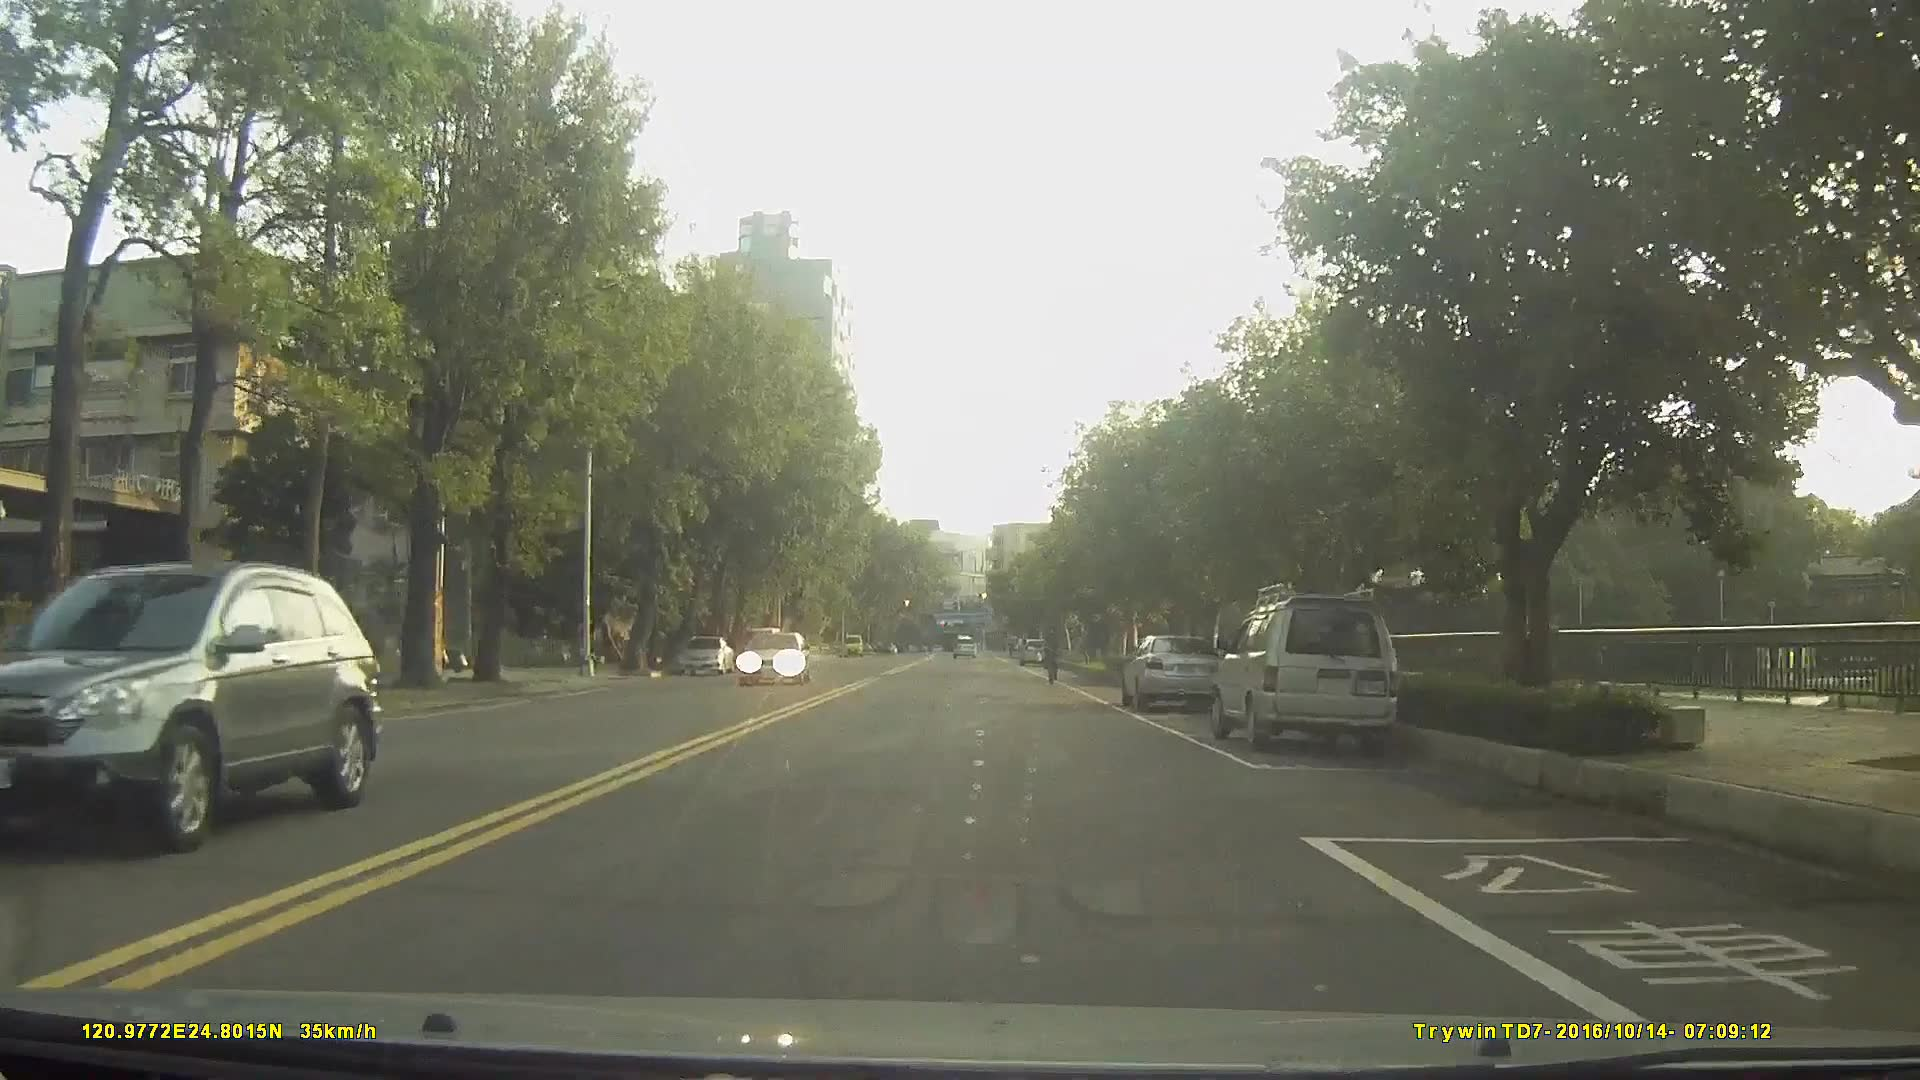rider: (1042, 626, 1063, 690)
vehicle: (0, 559, 382, 860), (1208, 596, 1398, 753), (1117, 632, 1227, 714), (735, 628, 812, 686), (675, 634, 733, 677), (737, 631, 781, 673), (1018, 637, 1048, 669), (948, 634, 976, 660)
